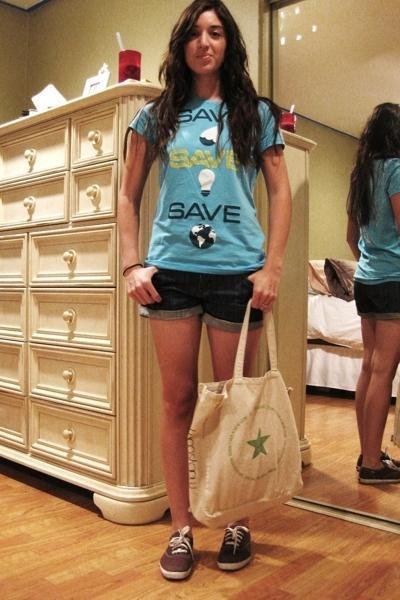bag: (188, 364, 307, 536)
shirt: (126, 96, 293, 273)
shoe: (160, 531, 250, 582)
shorts: (151, 266, 263, 330)
